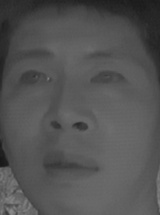eye: (86, 68, 134, 92), (14, 69, 54, 90)
mouth: (38, 147, 102, 189)
